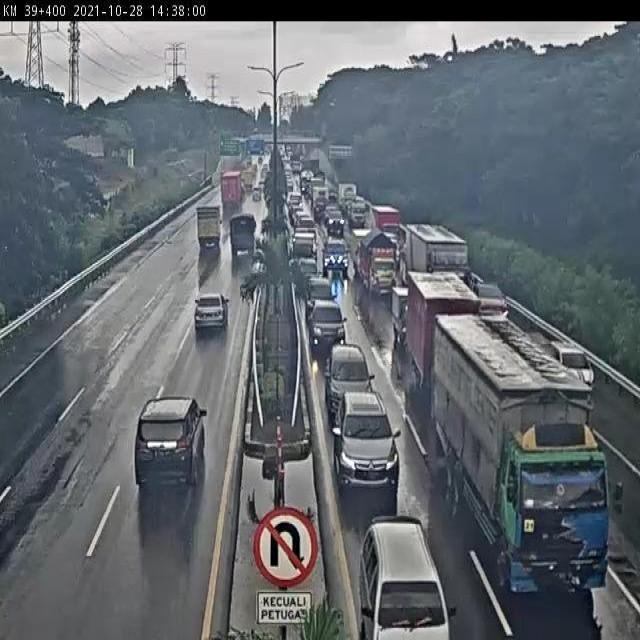big truck: (425, 308, 617, 595), (406, 220, 474, 291), (218, 169, 247, 212)
car: (348, 522, 456, 640), (129, 396, 209, 499), (335, 393, 406, 503), (542, 329, 611, 394), (321, 344, 381, 413), (472, 266, 520, 326), (306, 298, 352, 358), (189, 287, 230, 340), (388, 280, 419, 349), (321, 233, 354, 280)
small truck: (405, 269, 486, 395), (356, 231, 400, 297), (228, 209, 263, 264), (191, 203, 226, 252)
